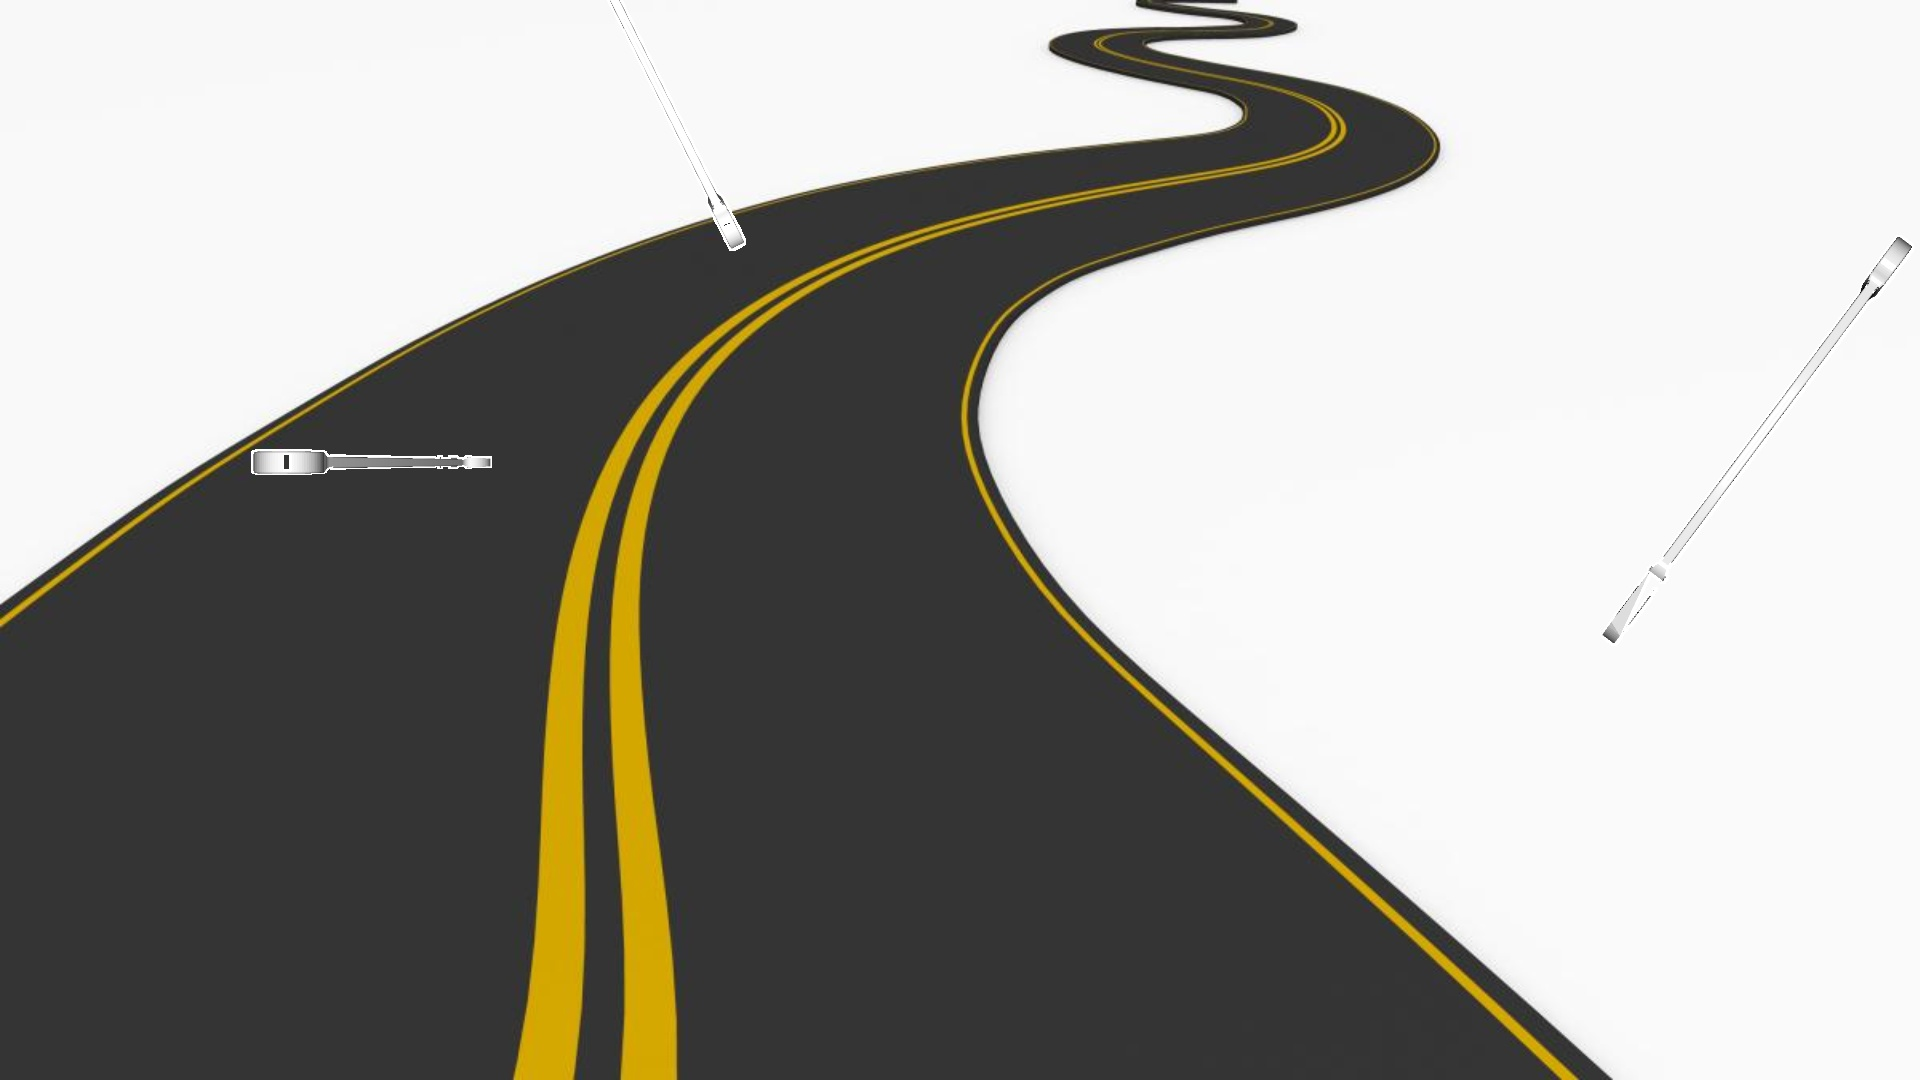Mixed Key: (1600, 235, 1913, 645), (607, 0, 745, 251), (251, 448, 491, 473)
